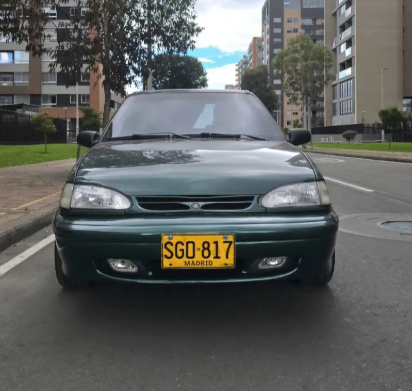placa: (160, 232, 237, 271)
